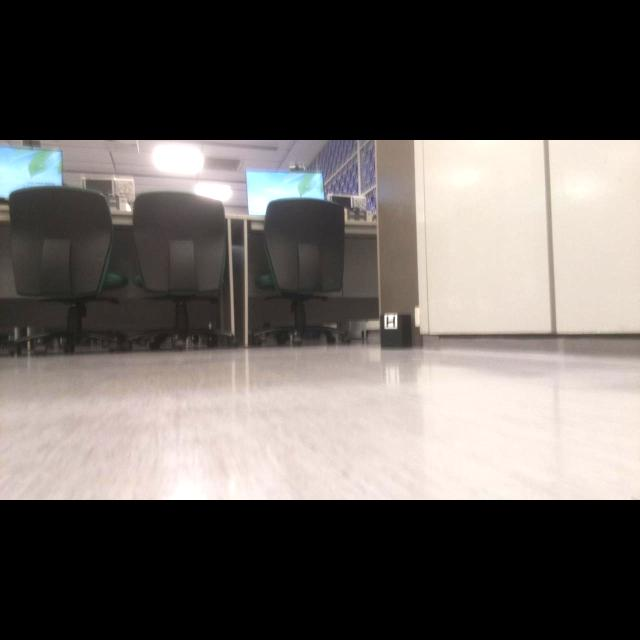H: (387, 316, 395, 328)
